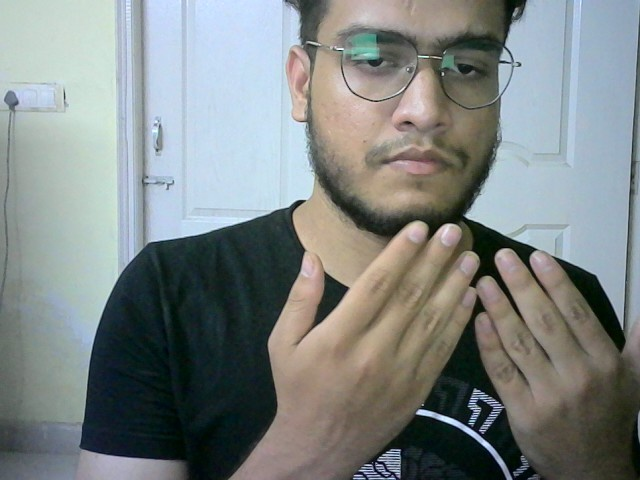Thank You: (264, 217, 640, 450)
